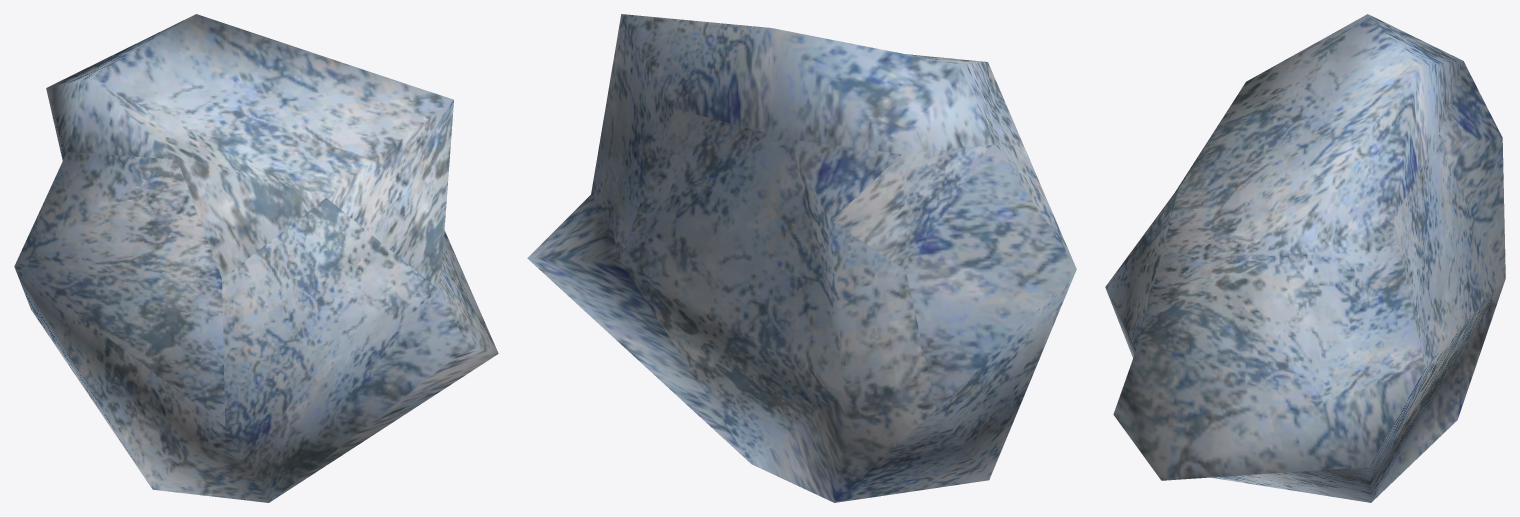
The model's file is asteroid_ice_small_s02_l3.fbx.
3 views of the same model, side by side, from view 1: azimuth 30°, elevation 25°; view 2: azimuth 150°, elevation 25°; view 3: azimuth 270°, elevation 25° (orthographic). The views are drawn at different scales.
Parts seen in each view (by area): view 1: mesh_node; view 2: mesh_node; view 3: mesh_node.
Part boxes in pixels (x1=…): mesh_node: x1=14, y1=14, x2=498, y2=502; mesh_node: x1=527, y1=14, x2=1076, y2=502; mesh_node: x1=1105, y1=14, x2=1505, y2=502.
Bounding box in the file's own units: 21.9 × 18.79 × 15.96.
